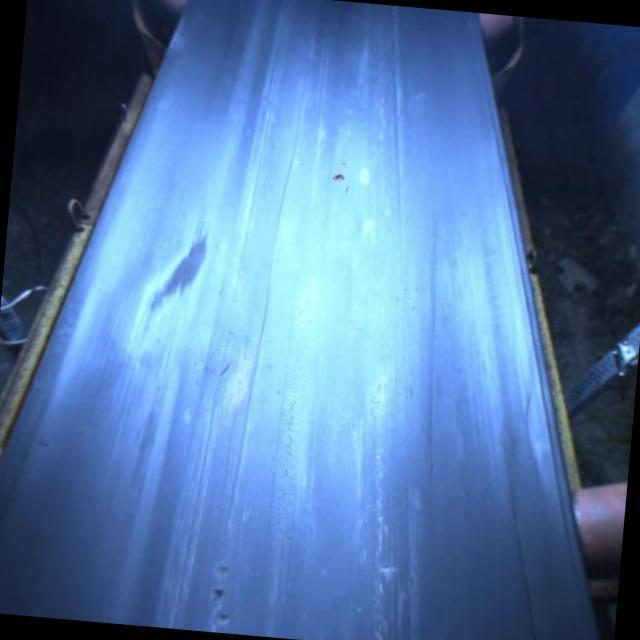Hole: (212, 557, 238, 580), (212, 610, 236, 626), (330, 168, 348, 189), (210, 582, 227, 602)
Puncture: (377, 559, 395, 574)
Tear: (221, 121, 309, 518)
Wear: (141, 222, 217, 321)
